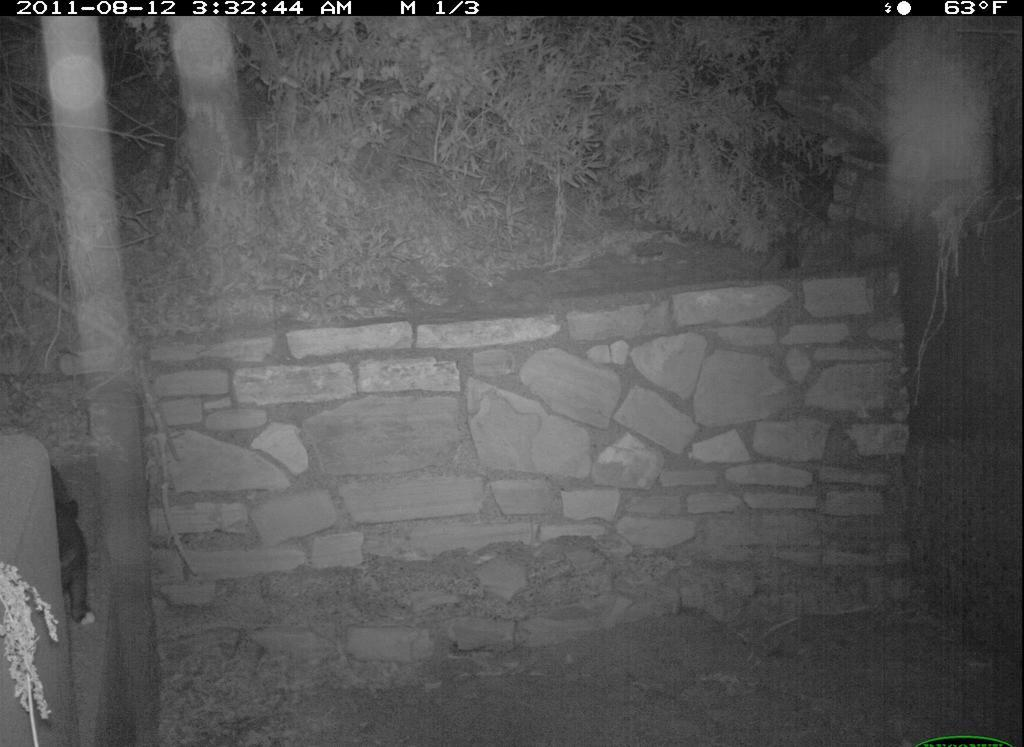cat: (45, 465, 109, 633)
